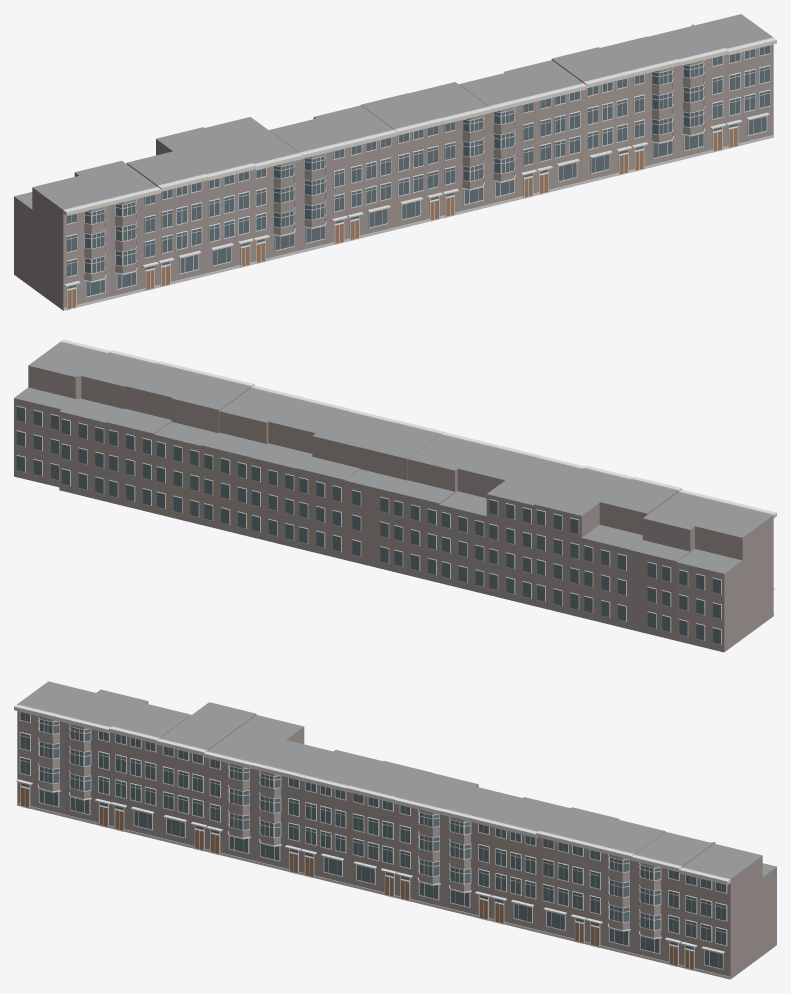
Rendered from chunk-face-boterdiep-6-34.glb.
3 renders of one model, top to bottom at view 1: azimuth 30°, elevation 25°; view 2: azimuth 150°, elevation 25°; view 3: azimuth 330°, elevation 25°, orthographic.
Visible parts, largest first — view 1: face-boterdiep-6-34; view 2: face-boterdiep-6-34; view 3: face-boterdiep-6-34.
Part boxes in pixels (x1,y1,x2,y2): face-boterdiep-6-34: (14,14,776,310); face-boterdiep-6-34: (14,339,776,652); face-boterdiep-6-34: (14,681,776,979).
Bounding box in the file's own units: 91.62 × 12.62 × 11.82.
